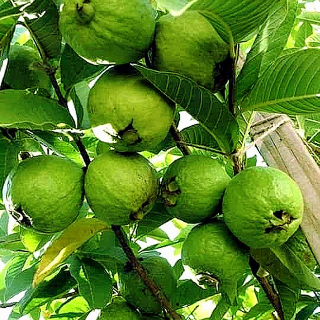oi: (87, 62, 172, 150), (224, 166, 303, 248), (3, 156, 85, 233), (86, 148, 156, 225), (160, 154, 227, 221)
